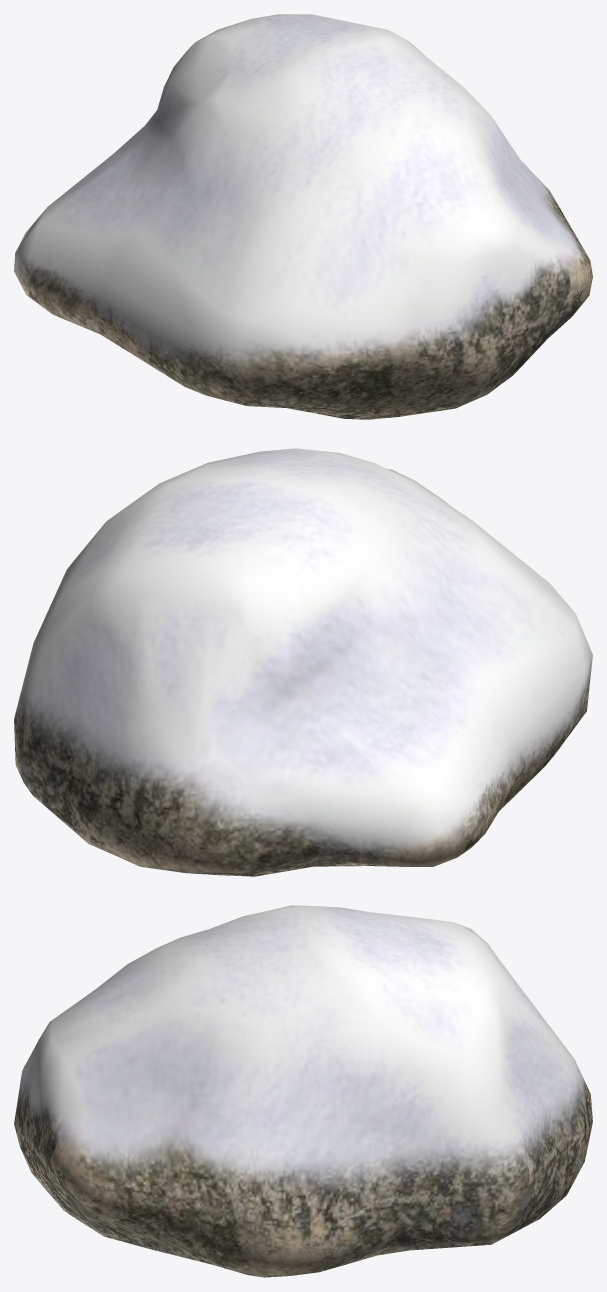
File: snowy_rock.obj
3 renders of one model, top to bottom at view 1: azimuth 30°, elevation 25°; view 2: azimuth 150°, elevation 25°; view 3: azimuth 270°, elevation 25°, orthographic. The views are drawn at different scales.
Visible parts, largest first — view 1: Cube__0; view 2: Cube__0; view 3: Cube__0.
Part boxes in pixels (x1,y1,x2,y2): Cube__0: [14, 14, 592, 419]; Cube__0: [14, 448, 592, 876]; Cube__0: [14, 905, 592, 1277].
Bounding box in the file's own units: 7.01 × 4.34 × 7.56.
1 material, 1 textured.
